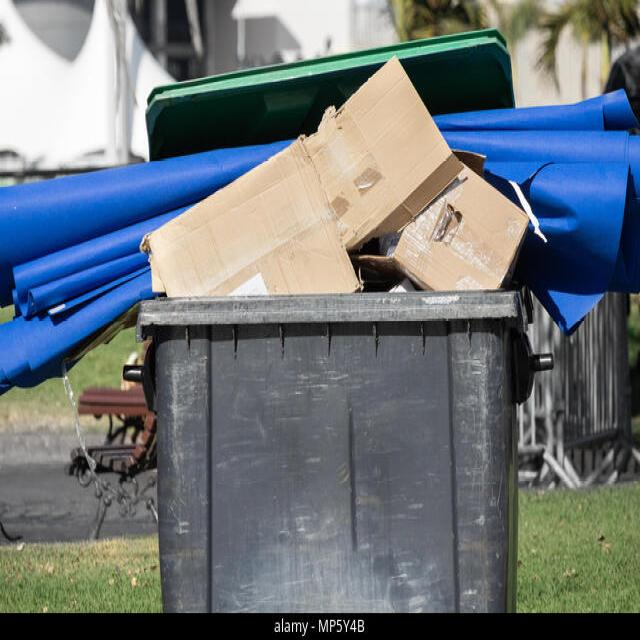cardboard: (207, 159, 508, 289)
